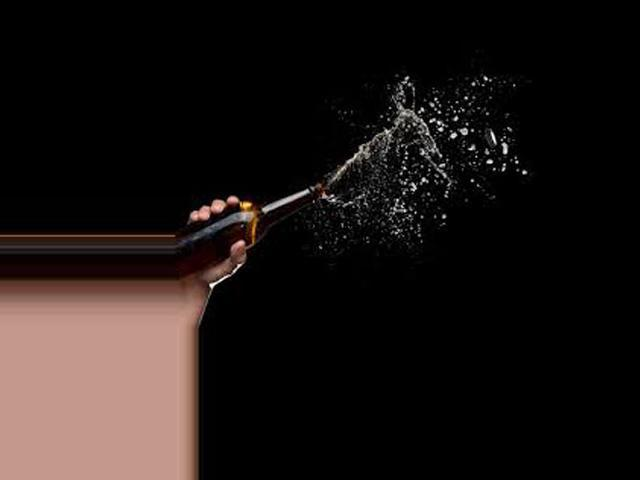beer: (173, 180, 322, 282)
